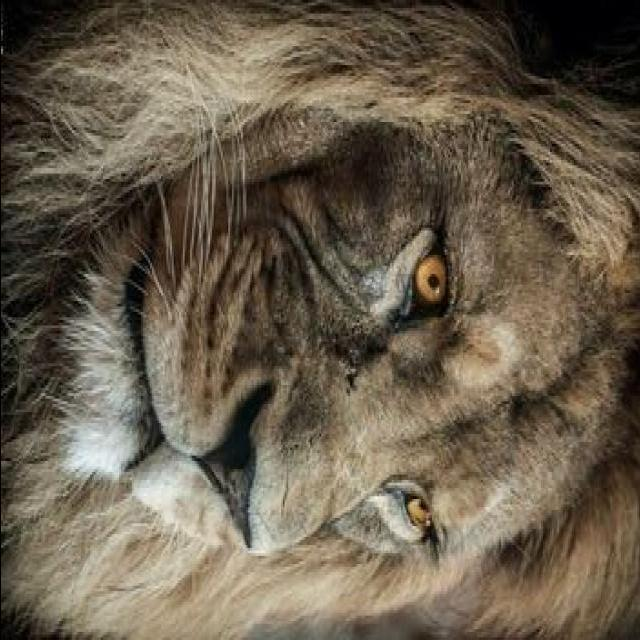lions: (13, 3, 640, 639)
